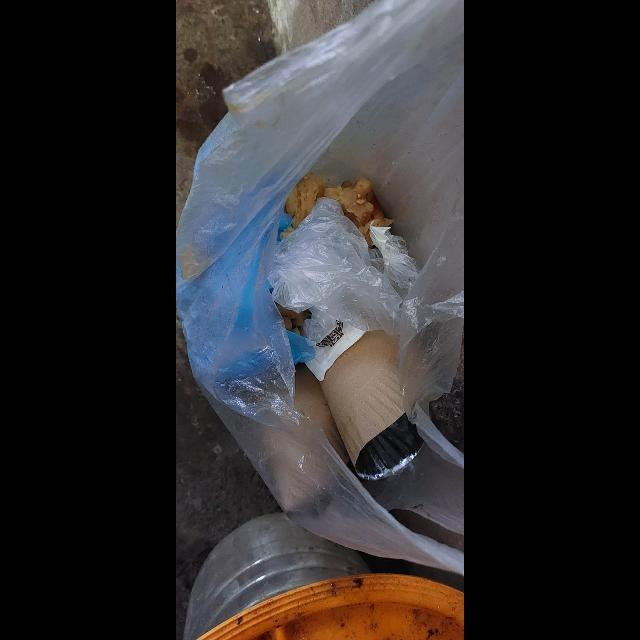biowaste: (285, 176, 393, 249)
paper: (320, 331, 424, 482)
plastic: (176, 0, 465, 580), (268, 197, 420, 342)
